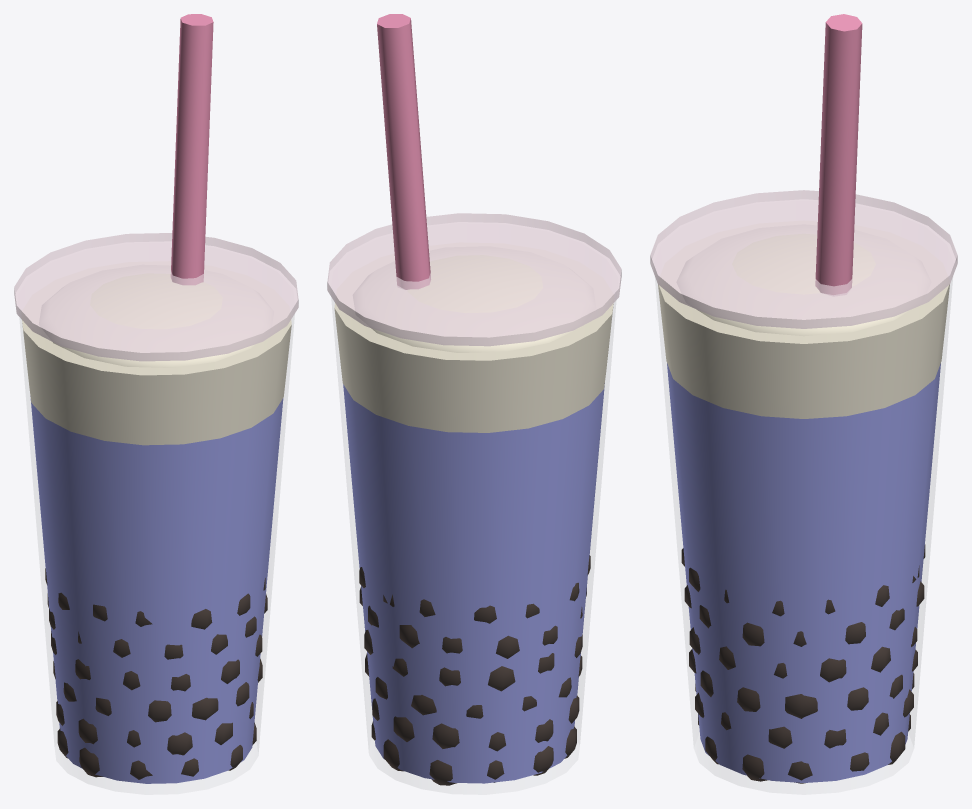
The model's file is Cup_Modular.fbx.
3 renders of one model, left to right at view 1: azimuth 30°, elevation 25°; view 2: azimuth 150°, elevation 25°; view 3: azimuth 270°, elevation 25°, orthographic. The views are drawn at different scales.
Visible parts, largest first — view 1: Liquid_ButterflyPea, Cup_SealFilm, Cup_Foam, Cup_Straw, Cup_Body, Cup_Pearls2, Cup_Pearls, Cup_Pearls3; view 2: Liquid_ButterflyPea, Cup_SealFilm, Cup_Foam, Cup_Straw, Cup_Body, Cup_Pearls, Cup_Pearls2, Cup_Pearls3; view 3: Liquid_ButterflyPea, Cup_SealFilm, Cup_Foam, Cup_Straw, Cup_Body, Cup_Pearls2, Cup_Pearls, Cup_Pearls3.
Boxes of the visible parts, bbox=[...] form: Liquid_ButterflyPea: bbox=[30, 396, 283, 783]; Cup_SealFilm: bbox=[14, 233, 298, 361]; Cup_Foam: bbox=[22, 273, 291, 445]; Cup_Straw: bbox=[171, 14, 213, 284]; Cup_Body: bbox=[19, 314, 294, 794]; Cup_Pearls2: bbox=[51, 631, 262, 722]; Cup_Pearls: bbox=[56, 701, 256, 779]; Cup_Pearls3: bbox=[45, 568, 267, 659]; Liquid_ButterflyPea: bbox=[343, 383, 604, 783]; Cup_SealFilm: bbox=[327, 213, 621, 346]; Cup_Foam: bbox=[334, 255, 613, 432]; Cup_Straw: bbox=[377, 14, 430, 289]; Cup_Body: bbox=[331, 298, 615, 794]; Cup_Pearls: bbox=[371, 695, 579, 785]; Cup_Pearls2: bbox=[364, 630, 582, 718]; Cup_Pearls3: bbox=[359, 555, 590, 658]; Liquid_ButterflyPea: bbox=[667, 363, 940, 782]; Cup_SealFilm: bbox=[650, 190, 957, 328]; Cup_Foam: bbox=[658, 233, 949, 418]; Cup_Straw: bbox=[815, 14, 862, 295]; Cup_Body: bbox=[655, 278, 952, 794]; Cup_Pearls2: bbox=[689, 627, 917, 718]; Cup_Pearls: bbox=[695, 673, 914, 783]; Cup_Pearls3: bbox=[681, 544, 925, 646].
Bounding box in the file's own units: 0.092 × 0.2506 × 0.092.
